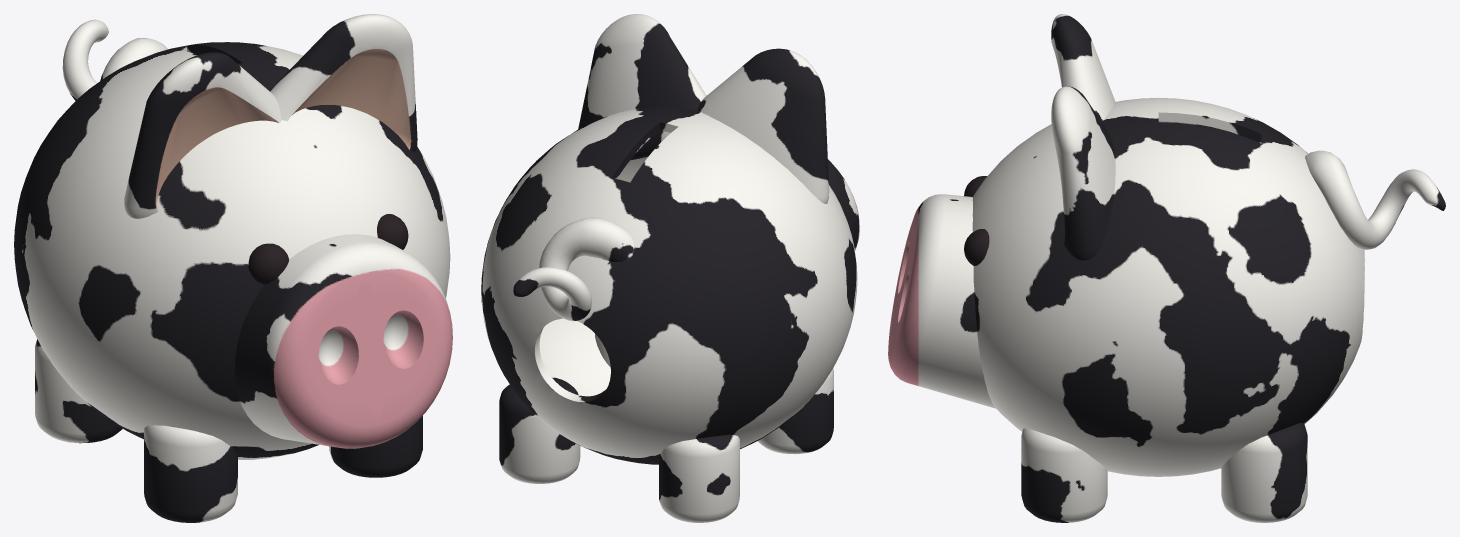
File: cow-complete.fbx
3 renders of one model, left to right at view 1: azimuth 30°, elevation 25°; view 2: azimuth 150°, elevation 25°; view 3: azimuth 270°, elevation 25°, orthographic. The views are drawn at different scales.
Parts seen in each view (by area): view 1: Body, Snout, Ears, Legs, Tail, Eyes; view 2: Body, Ears, Legs, Tail, Snout; view 3: Body, Snout, Legs, Ears, Tail, Eyes.
Boxes of the visible parts, x1,y1,x2,y2 form: Body: (14,42,450,459); Snout: (234,234,452,448); Ears: (124,14,417,218); Legs: (35,339,422,522); Tail: (62,19,167,100); Eyes: (248,214,408,284); Body: (481,107,857,464); Ears: (578,14,829,203); Legs: (499,334,833,522); Tail: (513,217,634,321); Snout: (828,159,859,250); Body: (972,97,1364,476); Snout: (888,194,996,408); Legs: (1021,423,1307,522); Ears: (1051,14,1115,260); Tail: (1305,150,1445,249); Eyes: (964,176,989,265).
Bounding box in the file's own units: 1200 × 1397 × 1708.
Materials: 3 (2 with a texture image).
